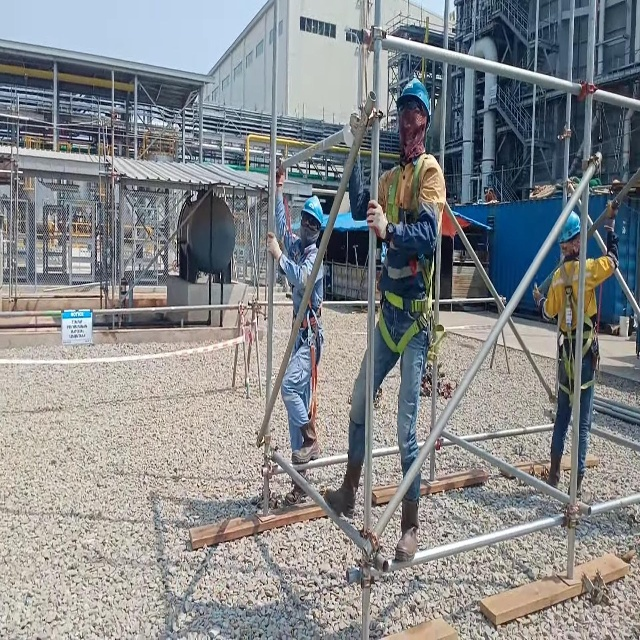Arnes_seguridad: (375, 157, 437, 353), (552, 254, 602, 410), (290, 239, 326, 428)
